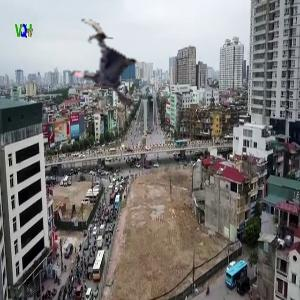drone: (57, 16, 161, 120)
